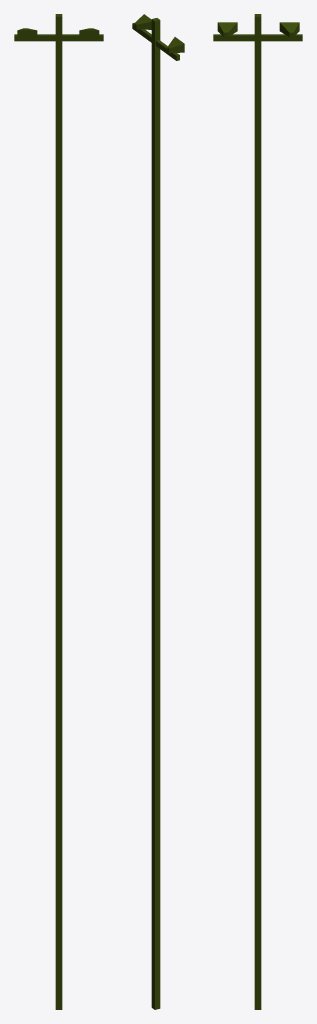
Rendered from PoleSpeaker01_M.fbx.
The picture shows the model from 3 angles, left to right: view 1: azimuth 90°, elevation 25°; view 2: azimuth 210°, elevation 25°; view 3: azimuth 270°, elevation 25°; orthographic projection.
Parts seen in each view (by area): view 1: PoleSpeaker01; view 2: PoleSpeaker01; view 3: PoleSpeaker01.
Part boxes in pixels (x1,y1,x2,y2): PoleSpeaker01: [14, 14, 103, 1009]; PoleSpeaker01: [132, 14, 184, 1009]; PoleSpeaker01: [213, 14, 302, 1009].
Size of the model in its own units: 0.0947 by 7.19 by 0.5842.
